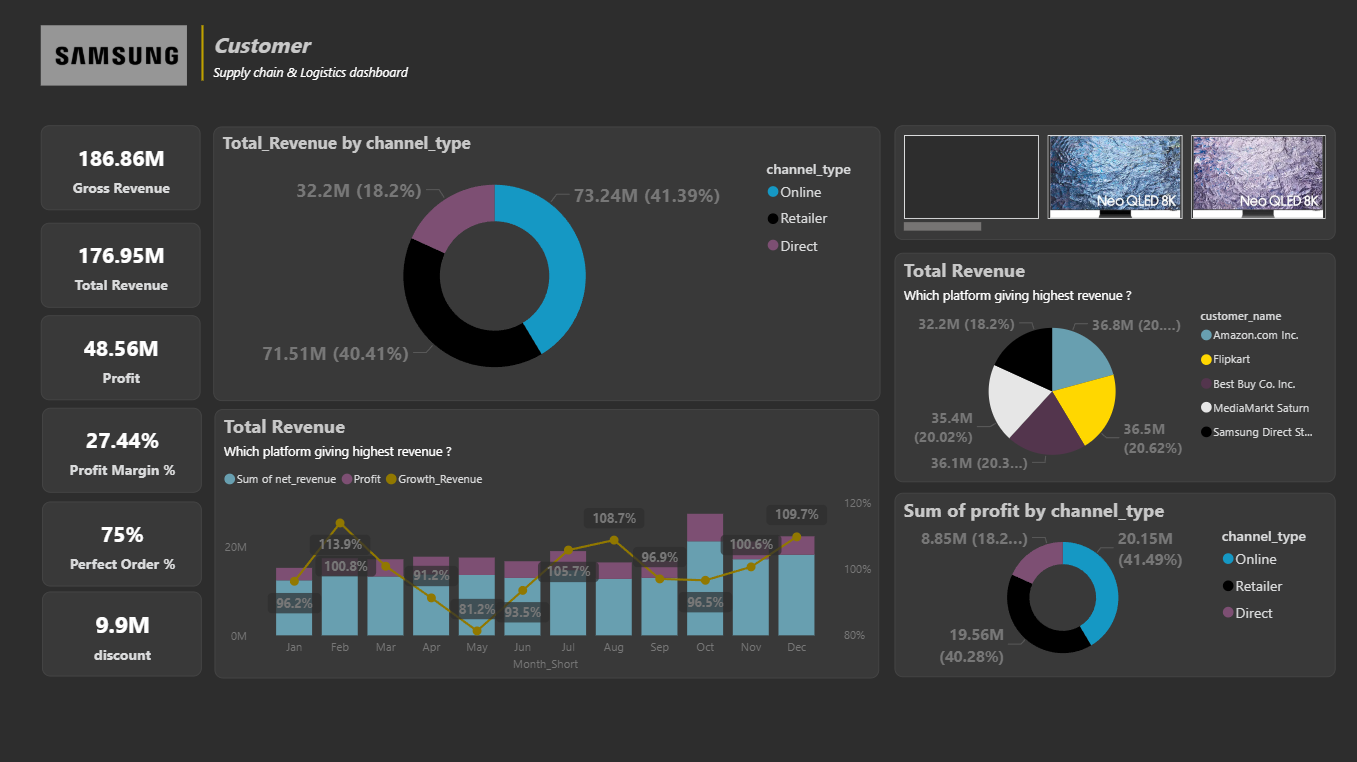

This screenshot's page, from the dashboard's own definition file:
{"tool":"powerbi","page":{"name":"Customer","canvas":[1280,720],"ordinal":5},"visuals":[{"type":"shape","title":"Overview","box":[203.3,28.9,231.1,47.8],"z":0},{"type":"shape","box":[181.1,24.4,24.4,52.2],"z":1000},{"type":"image","box":[41.1,24.4,137.8,56.7],"z":2000},{"type":"card","fields":{"Values":["MeasuresTable.Total_Review"]},"box":[40.7,210.4,150,80],"z":3000},{"type":"card","fields":{"Values":["MeasuresTable.Profit"]},"box":[40.7,297.1,150,80],"z":4000},{"type":"card","fields":{"Values":["MeasuresTable.Profit Margin %"]},"box":[42.9,384.9,150,80],"z":5000},{"type":"card","fields":{"Values":["MeasuresTable.Perfect_Order %"]},"box":[41.8,472.7,150,80],"z":6000},{"type":"card","fields":{"Values":["Sum(fact_sales.discount_amount)"]},"box":[41.8,558.2,150,80],"z":7000},{"type":"card","fields":{"Values":["Sum(fact_sales.gross_revenue)"]},"box":[41.1,118.9,150,80],"z":8000},{"type":"donutChart","fields":{"Y":["MeasuresTable.Total_Revenue"],"Category":["dim_customer.channel_type"]},"box":[203.2,119.4,462.2,203.2],"z":9000},{"type":"donutChart","fields":{"Category":["dim_customer.channel_type"],"Y":["Sum(fact_sales.profit)"]},"box":[203.2,331.4,462.2,195.6],"z":10000},{"type":"clusteredBarChart","title":"Total Revenue","fields":{"Y":["MeasuresTable.Total_Revenue"],"Category":["dim_customer.customer_name"]},"box":[666.3,118.6,231.4,245.3],"z":11000},{"type":"clusteredBarChart","title":"Total Revenue","fields":{"Category":["dim_product.product_name"],"Y":["Sum(fact_sales.profit)"]},"box":[907,118.6,230.2,245.3],"z":12000},{"type":"lineStackedColumnComboChart","title":"Total Revenue","fields":{"Category":["dim_date.Month_Short"],"Y":["Sum(fact_sales.net_revenue)","MeasuresTable.Profit"],"Y2":["MeasuresTable.Growth_Revenue"]},"box":[238.4,530.2,553.5,189.5],"z":13000},{"type":"clusteredBarChart","title":"Total Revenue","fields":{"Category":["dim_product.product_name"],"Y":["MeasuresTable.Discount %"]},"box":[858.1,380.2,279.1,245.3],"z":13001}]}

Visuals, with their boxes in screenshot pixels (x1, y1, x2, y2), scaled from the page's 1280x720 canvas onto the 1357x762 screenshot:
"Overview" shape: (left=216, top=31, right=461, bottom=81)
shape: (left=192, top=26, right=218, bottom=81)
image: (left=44, top=26, right=190, bottom=86)
card - MeasuresTable.Total_Review: (left=43, top=223, right=202, bottom=307)
card - MeasuresTable.Profit: (left=43, top=314, right=202, bottom=399)
card - MeasuresTable.Profit Margin %: (left=45, top=407, right=205, bottom=492)
card - MeasuresTable.Perfect_Order %: (left=44, top=500, right=203, bottom=585)
card - Sum(fact_sales.discount_amount): (left=44, top=591, right=203, bottom=675)
card - Sum(fact_sales.gross_revenue): (left=44, top=126, right=203, bottom=211)
donutChart - MeasuresTable.Total_Revenue x dim_customer.channel_type: (left=215, top=126, right=705, bottom=341)
donutChart - dim_customer.channel_type x Sum(fact_sales.profit): (left=215, top=351, right=705, bottom=558)
"Total Revenue" clusteredBarChart: (left=706, top=126, right=952, bottom=385)
"Total Revenue" clusteredBarChart: (left=962, top=126, right=1206, bottom=385)
"Total Revenue" lineStackedColumnComboChart: (left=253, top=561, right=840, bottom=761)
"Total Revenue" clusteredBarChart: (left=910, top=402, right=1206, bottom=662)
